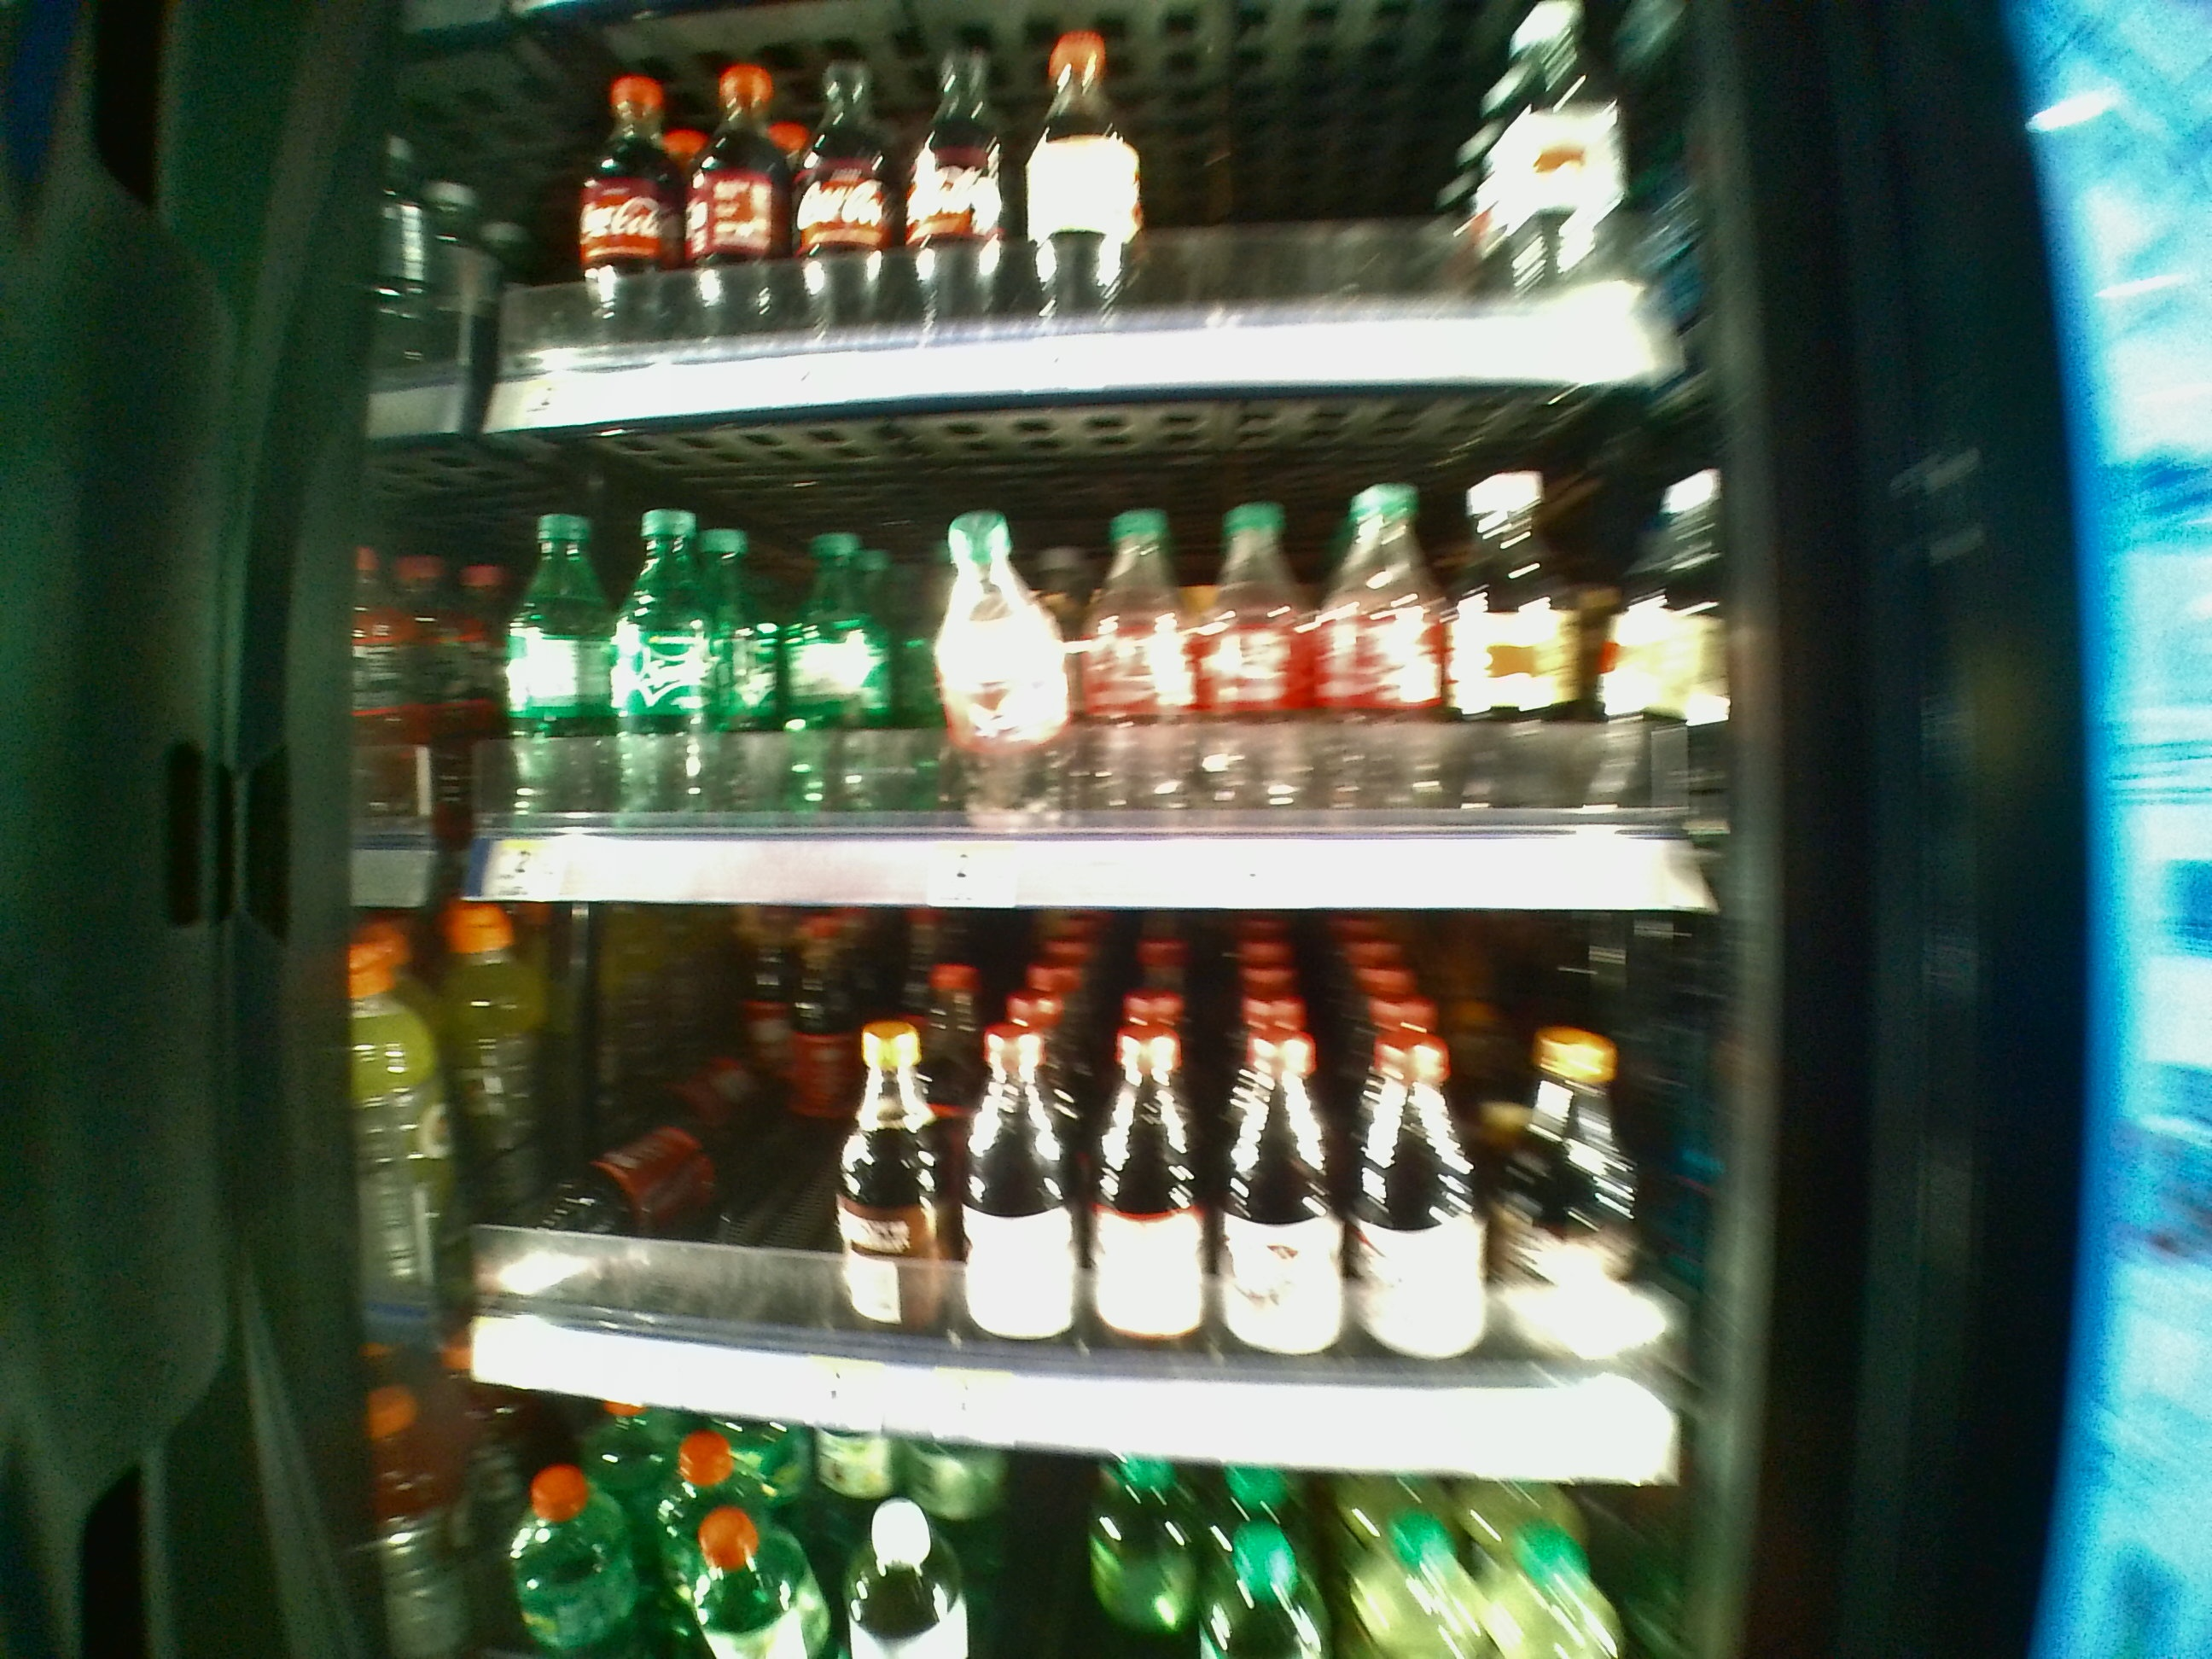shelf: (432, 903, 1724, 1486), (428, 425, 1719, 908)
